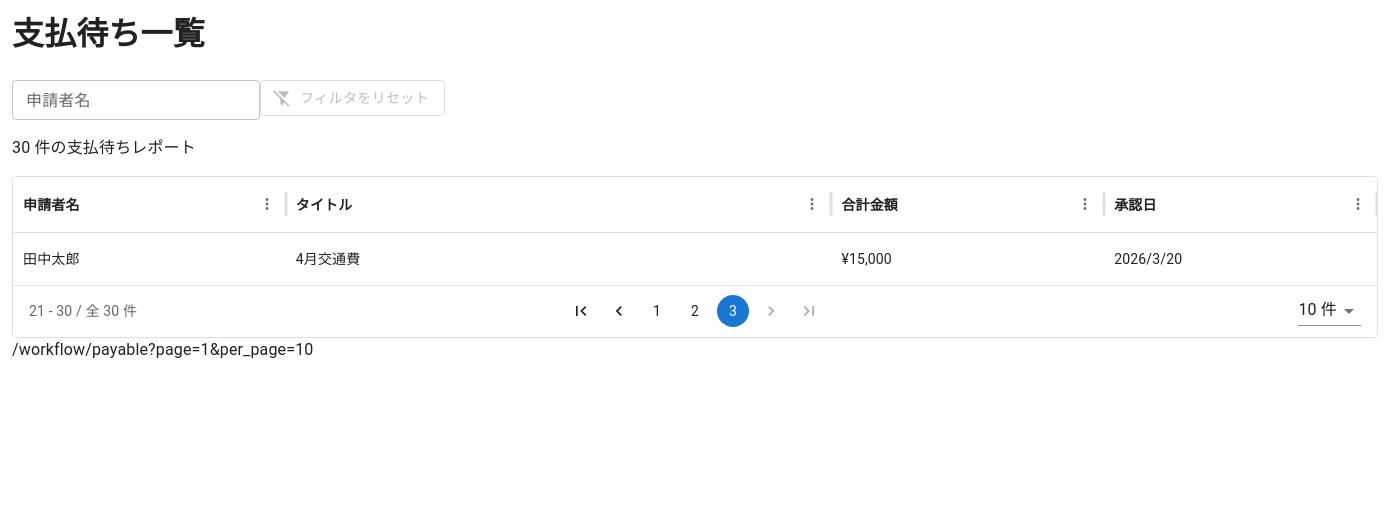
Test: PaymentListPage（PayableReportsPage） › WFL-FE-088: test_PaymentListPage_selector_change_updates_url_and_resets_page — per_page 変更時に page=1 リセット + setSearchParams 1 コール集約（重要リスク 5）
This screenshot has width=1390, height=516.
What coordinates should you click on to do the following:
click the dropdown
I would click on:
 (1318, 309)
Its box is [1298, 300, 1337, 319].
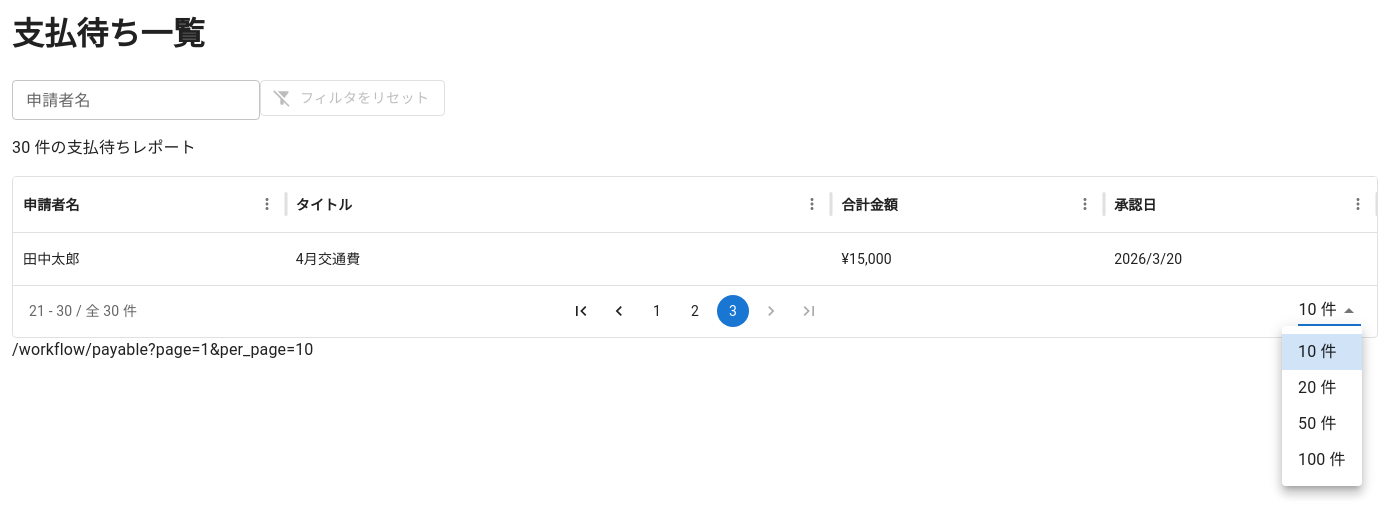
What coordinates should you click on to do the following:
click the option "50 件"
I would click on:
 (1317, 424)
Its box is [1298, 414, 1337, 433].
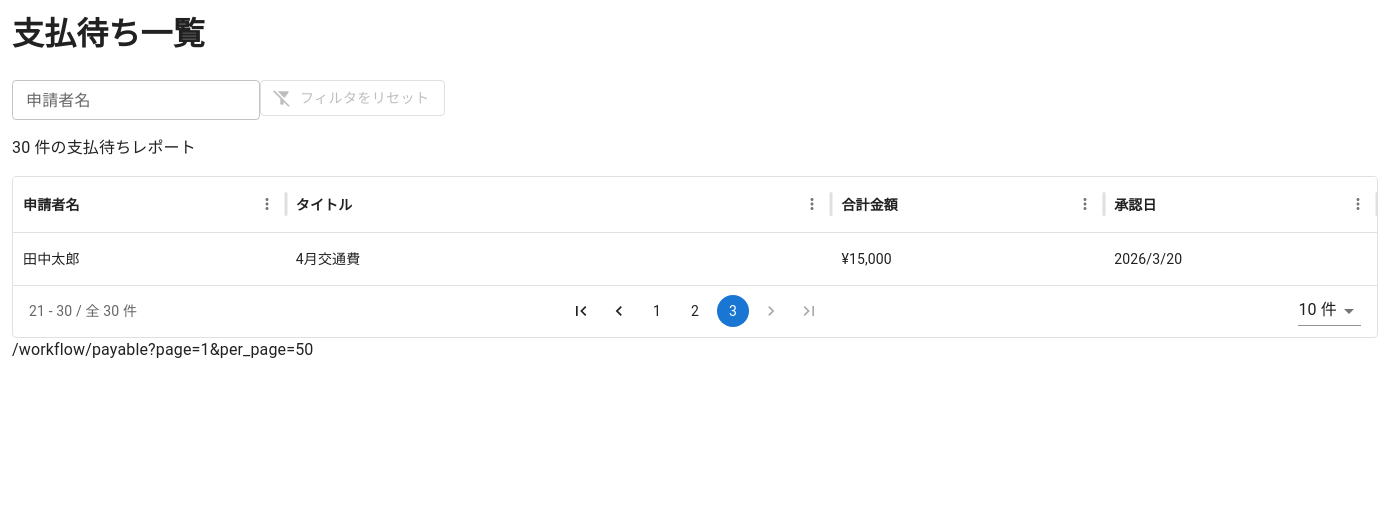
Expected: the text with test id "location" shows "page=1", [12, 340, 314, 359]
Result: the text with test id "location" shows "per_page=50" at [12, 340, 314, 359]
